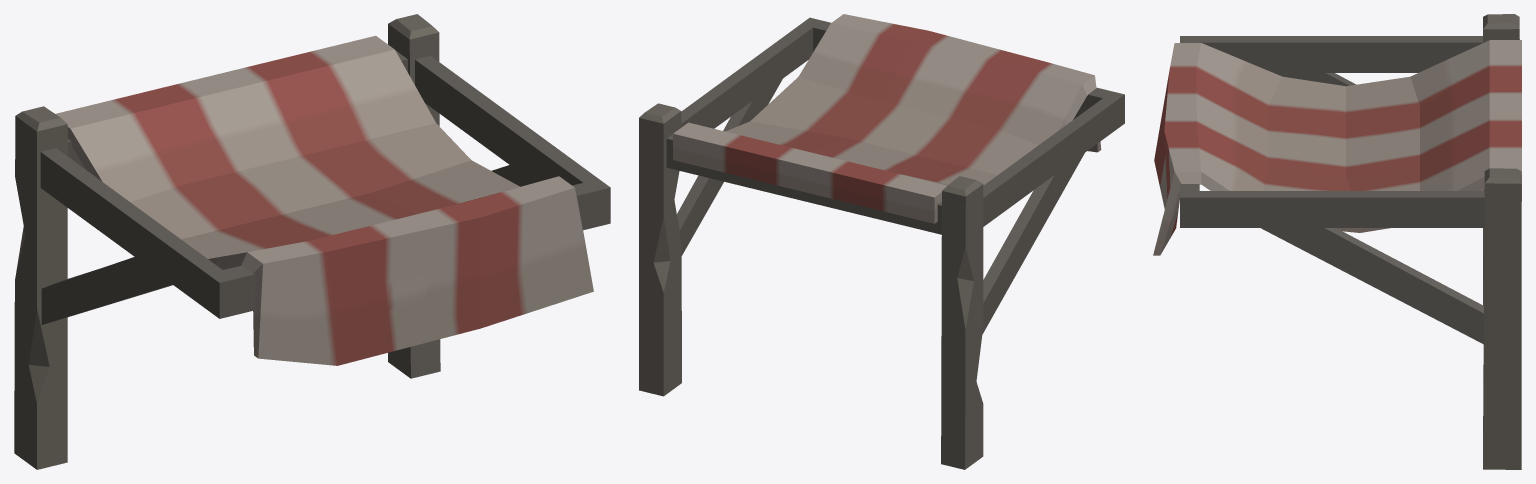
File: SM_Bld_Village_ClothCover_Small_04.fbx
3 renders of one model, left to right at view 1: azimuth 30°, elevation 25°; view 2: azimuth 150°, elevation 25°; view 3: azimuth 270°, elevation 25°, orthographic. The views are drawn at different scales.
Visible parts, largest first — view 1: SM_Bld_Village_ClothCover_Small_04; view 2: SM_Bld_Village_ClothCover_Small_04; view 3: SM_Bld_Village_ClothCover_Small_04.
Part boxes in pixels (<box>): SM_Bld_Village_ClothCover_Small_04: <box>14,14,610,469</box>; SM_Bld_Village_ClothCover_Small_04: <box>639,14,1124,469</box>; SM_Bld_Village_ClothCover_Small_04: <box>1153,14,1521,469</box>.
Size of the model in its own units: 201 by 163 by 188.
